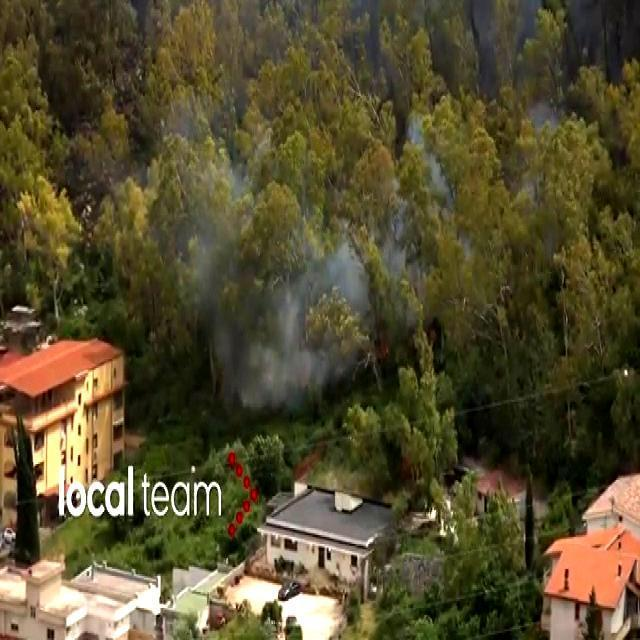Smoke: (235, 238, 378, 414)
